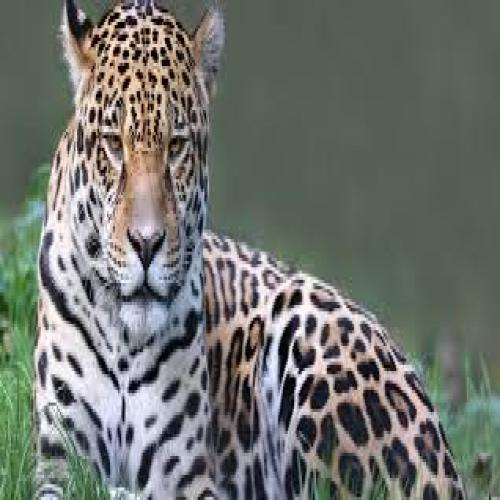jaguar_not-endangered: (53, 6, 378, 500), (414, 429, 416, 432)
